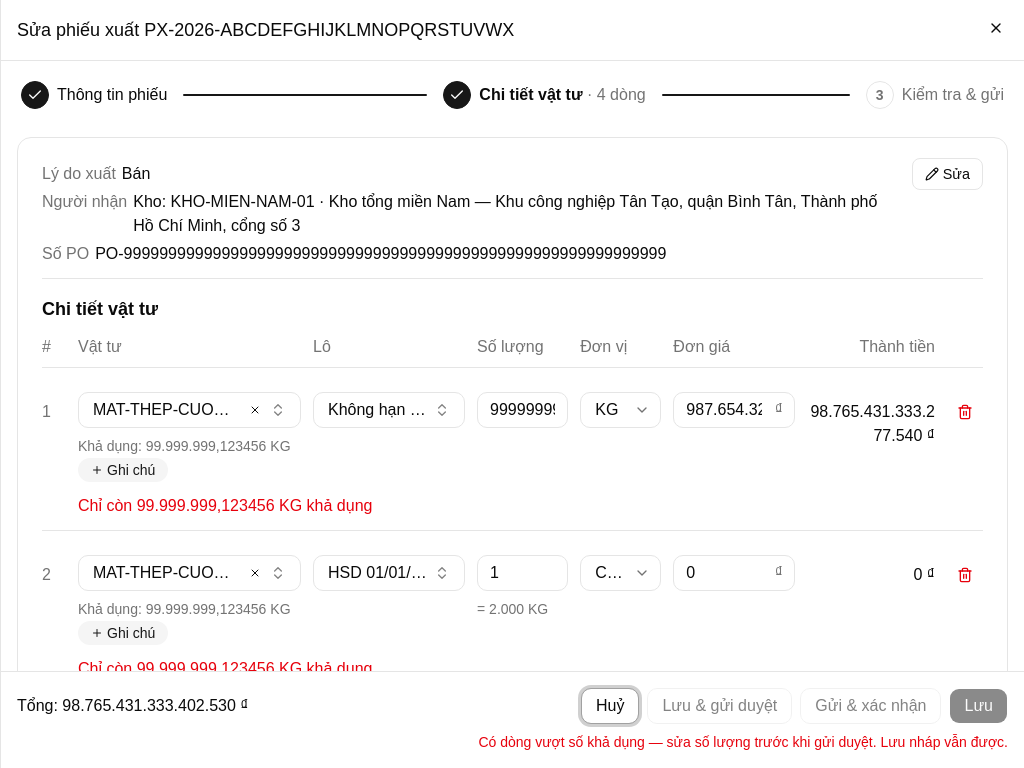
ExportFormSheet — break-ui › worst case: ③ — cảnh báo đơn giá 0 + lô hết hạn, bảng dòng có lô "Không hạn", chân sheet 4 nút
Expected: the dropdown named "Vật tư dòng 1" is shown, [78,392,301,428]
Click the button "3 Kiểm tra & gửi": (935, 95) [862,77,1008,113]
(page scrolled)
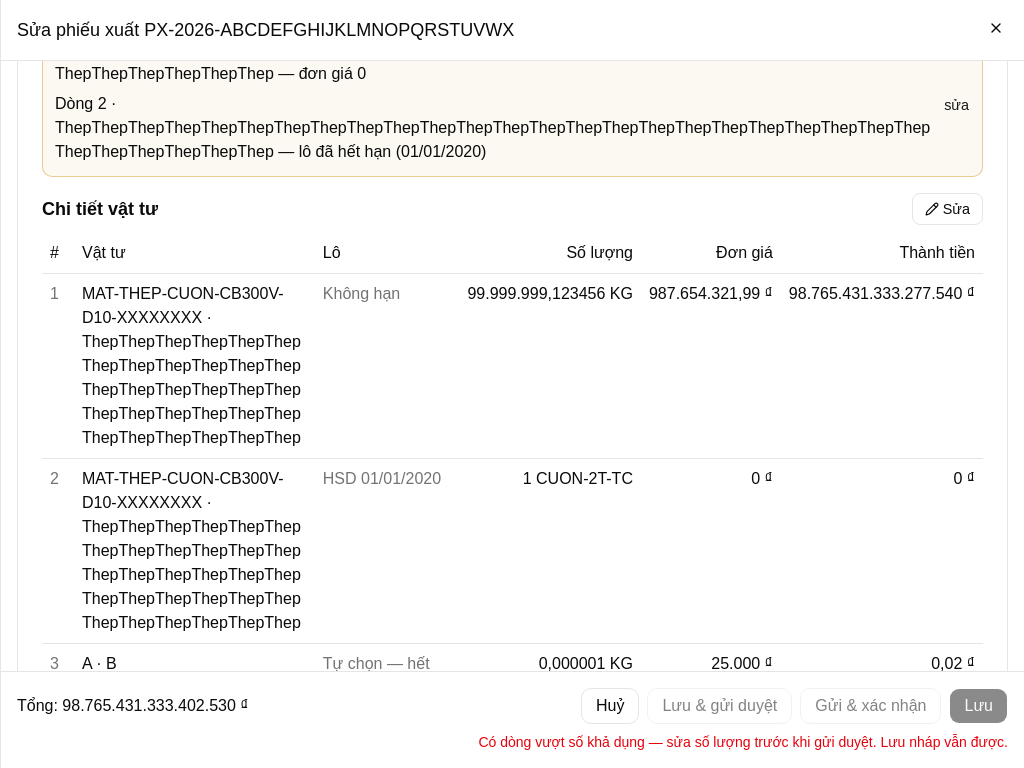
Result: the buttons read "Huỷ", "Lưu & gửi duyệt", "Gửi & xác nhận", "Lưu", in this order at [581,688,640,724]; [647,688,792,724]; [800,688,942,724]; [950,688,1008,724]
